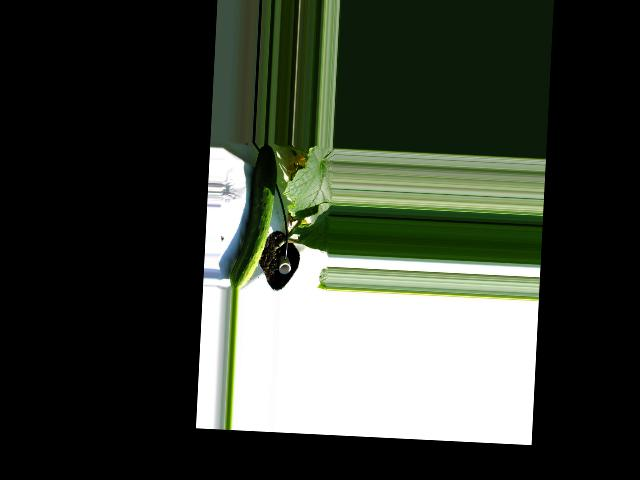cucumber: (229, 142, 278, 292)
